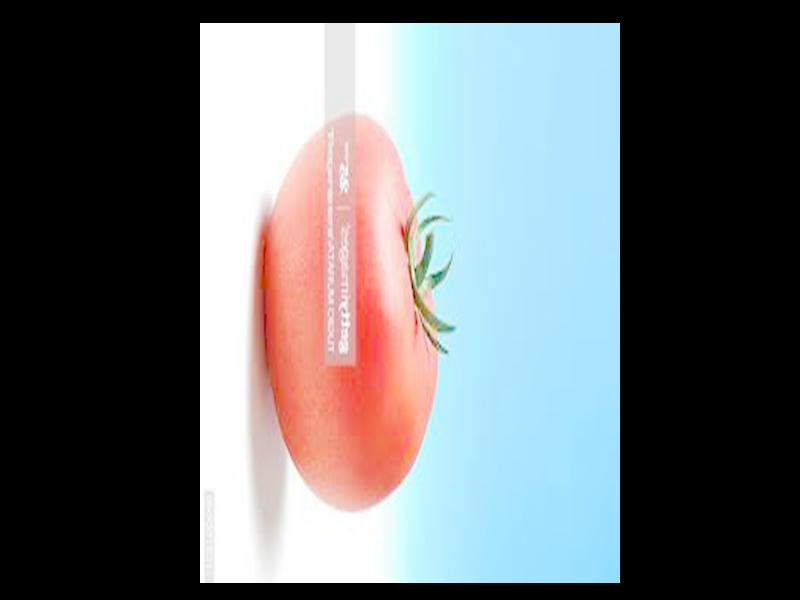Tomato: (266, 111, 437, 509)
